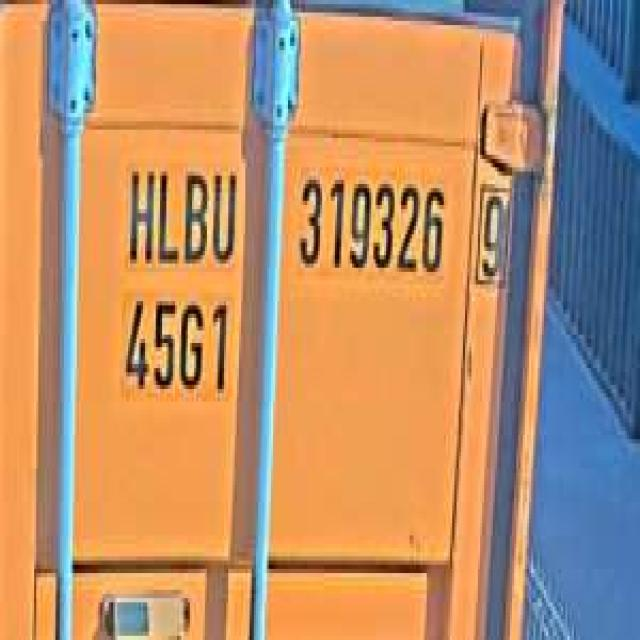dv: (469, 167, 514, 293)
owner: (122, 155, 241, 272)
serial: (292, 163, 448, 289)
size: (117, 284, 235, 406)
